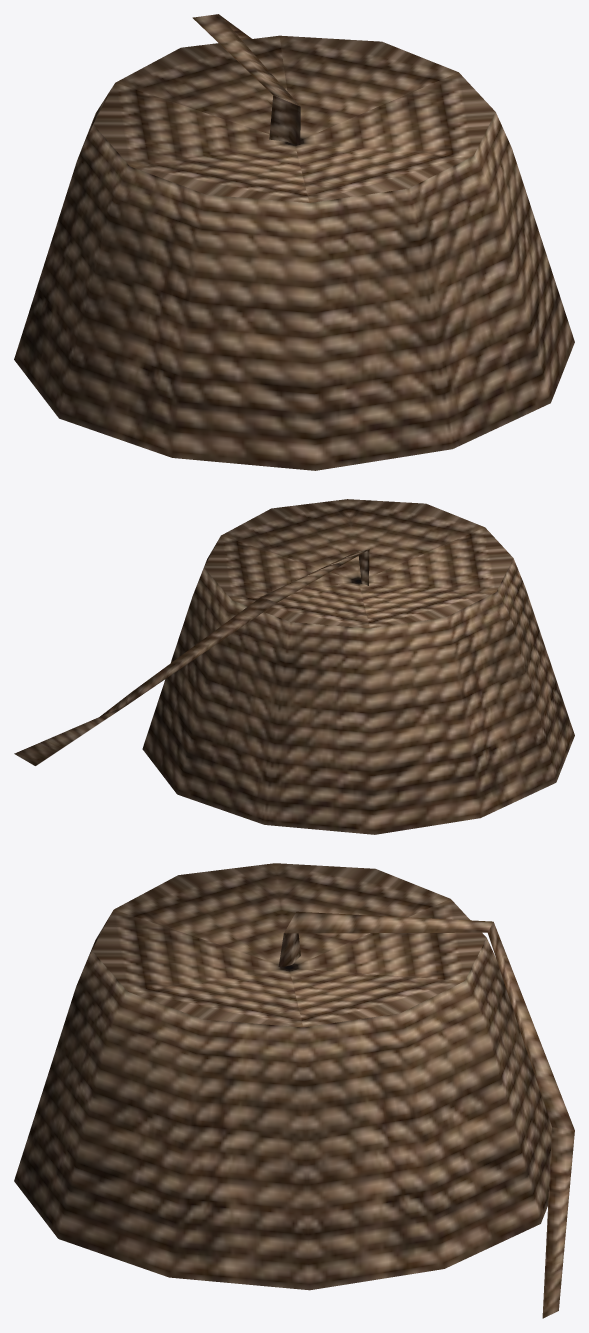
File: rope_pile.fbx
The picture shows the model from 3 angles, top to bottom: view 1: azimuth 30°, elevation 25°; view 2: azimuth 150°, elevation 25°; view 3: azimuth 270°, elevation 25°; orthographic projection. The views are drawn at different scales.
Parts seen in each view (by area): view 1: pile_1, rope_1; view 2: pile_1, rope_1; view 3: pile_1, rope_1.
Part boxes in pixels (x1,y1,x2,y2): pile_1: [14, 35, 574, 470]; rope_1: [192, 14, 300, 144]; pile_1: [142, 499, 574, 834]; rope_1: [14, 549, 369, 765]; pile_1: [14, 863, 551, 1290]; rope_1: [278, 911, 574, 1318].
Bounding box in the file's own units: 289 × 131 × 257.
1 material, 1 textured.
